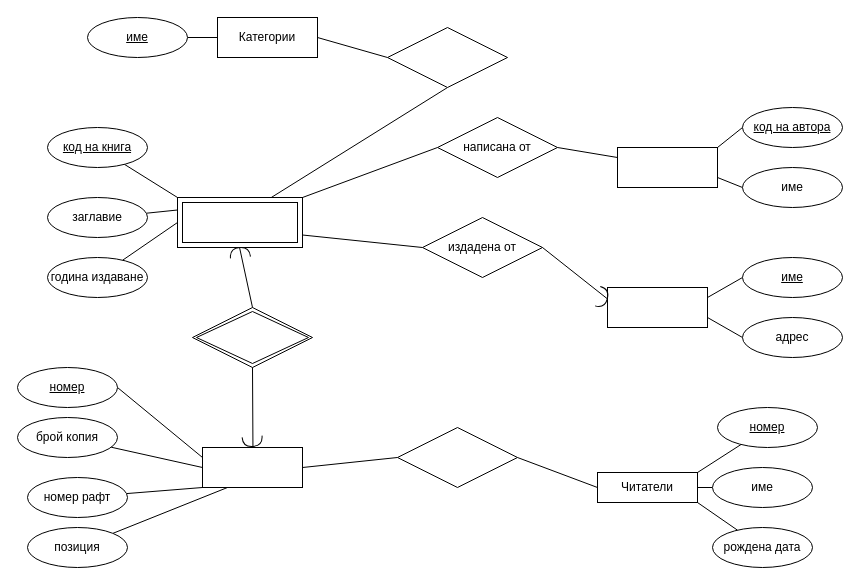
The diagram is 860 pixels wide and 585 high, and some of its shapes have lost their labels. The box of each missing label's shape, as (x1, y1, x2, y2) in pixels:
Автори: (616, 146, 718, 188)
взето от: (396, 426, 518, 488)
Екземпляри: (202, 446, 302, 488)
Издателства: (606, 286, 708, 328)
Книги: (176, 196, 302, 248)
направена на: (192, 306, 312, 368)
участва в: (386, 26, 508, 88)
